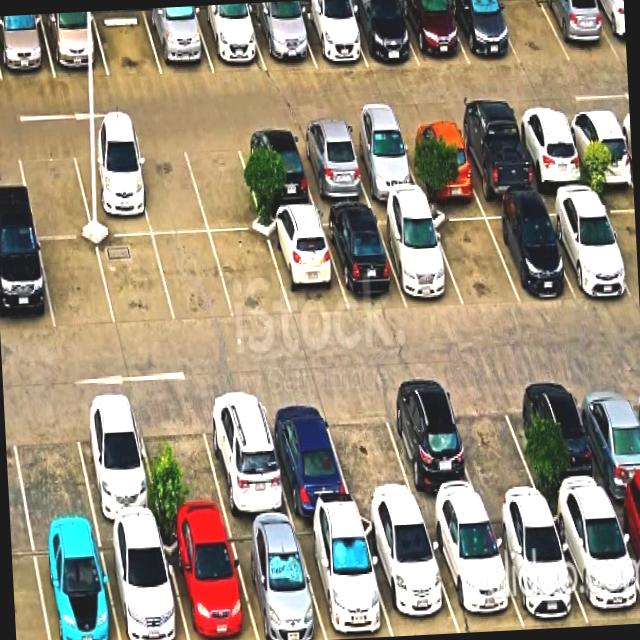empty: (447, 380, 544, 507), (322, 390, 419, 511), (135, 399, 228, 524), (8, 402, 96, 531), (429, 205, 520, 306), (182, 133, 263, 232), (131, 138, 208, 234), (16, 142, 93, 237), (97, 235, 176, 327), (154, 233, 234, 323), (211, 231, 291, 319), (39, 239, 115, 330), (494, 0, 570, 66), (595, 191, 639, 298), (93, 9, 162, 76)
occupied: (381, 384, 484, 512), (486, 505, 589, 628), (423, 509, 524, 633), (294, 516, 393, 640), (199, 390, 292, 520), (360, 515, 459, 637), (227, 521, 327, 640), (548, 498, 640, 626), (519, 376, 610, 502), (261, 393, 354, 516), (161, 523, 258, 640), (72, 400, 161, 526), (99, 526, 188, 640), (32, 529, 119, 640), (540, 193, 633, 296), (482, 202, 574, 302), (264, 212, 349, 318), (374, 208, 463, 306), (320, 209, 406, 310), (572, 375, 640, 497), (71, 140, 152, 236), (454, 117, 537, 198), (237, 130, 316, 212), (293, 127, 371, 206), (344, 125, 423, 202), (400, 121, 479, 196), (513, 112, 589, 189), (0, 235, 55, 334), (564, 109, 633, 184), (345, 0, 419, 67), (144, 6, 214, 75), (194, 6, 266, 73), (541, 0, 619, 61), (398, 0, 469, 67), (448, 0, 520, 65), (295, 3, 367, 68), (40, 11, 109, 78), (248, 5, 316, 70), (0, 14, 55, 81), (610, 495, 640, 586), (592, 0, 627, 58)
